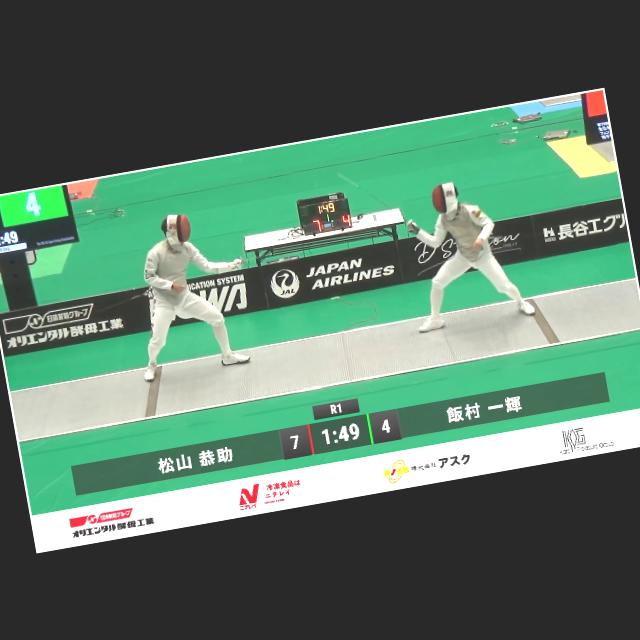blade: (330, 156, 420, 243), (228, 246, 266, 268)
